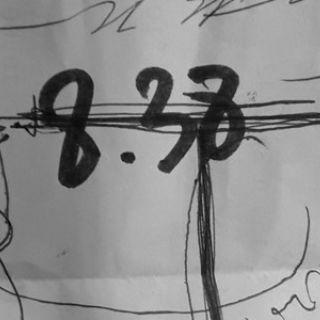.: (115, 148, 137, 170)
3: (134, 64, 197, 172)
8: (36, 68, 106, 193), (193, 59, 250, 166)
